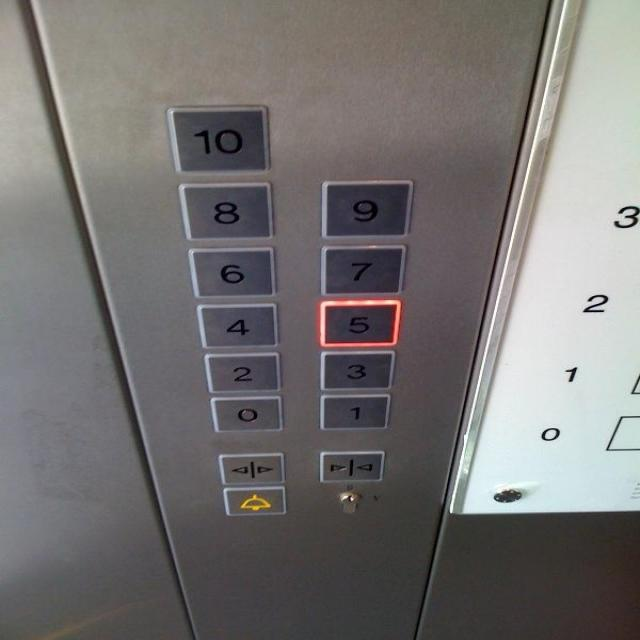0: (208, 396, 282, 432)
1: (319, 394, 390, 430)
10: (165, 106, 270, 172)
2: (202, 352, 282, 393)
3: (319, 350, 392, 390)
4: (198, 302, 280, 349)
5: (319, 300, 399, 346)
6: (186, 245, 276, 298)
7: (317, 244, 405, 295)
8: (176, 180, 273, 240)
9: (320, 179, 412, 238)
alarm: (222, 487, 285, 515)
close: (319, 451, 384, 484)
keyhole: (336, 489, 361, 514)
open: (218, 452, 284, 485)
